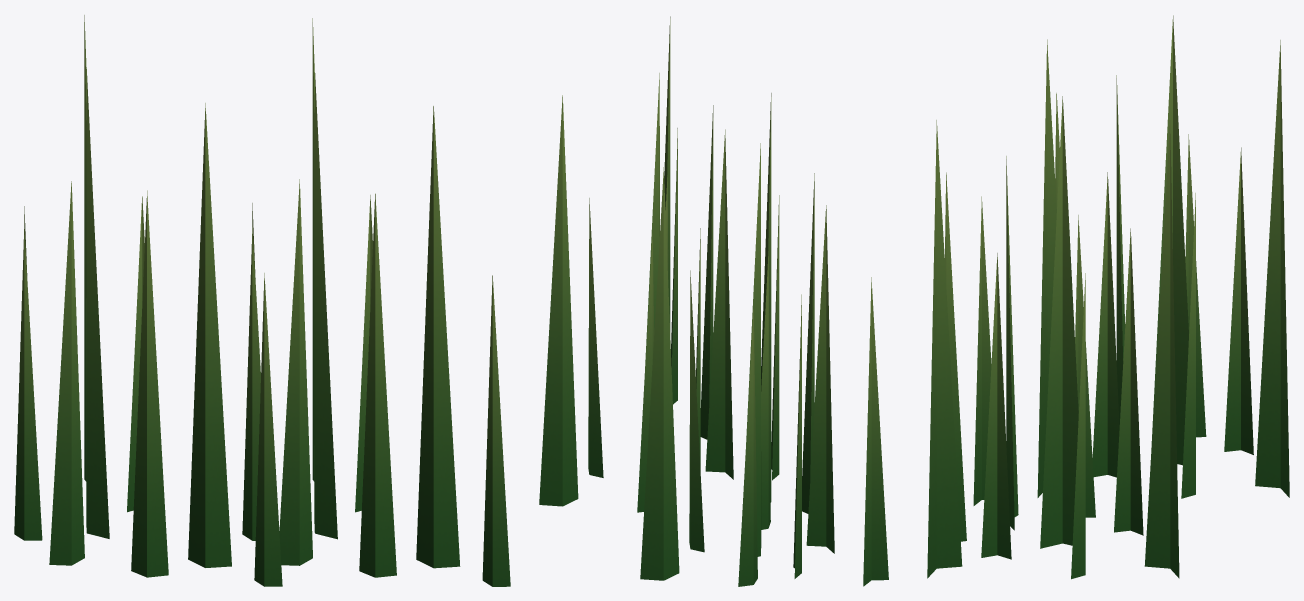
Rendered from Grass_2.fbx.
The picture shows the model from 3 angles, left to right: view 1: azimuth 30°, elevation 25°; view 2: azimuth 150°, elevation 25°; view 3: azimuth 270°, elevation 25°; orthographic projection. The views are drawn at different scales.
Visible parts, largest first — view 1: polySurface546; view 2: polySurface546; view 3: polySurface546.
Boxes of the visible parts, x1,y1,x2,y2 form: polySurface546: (14,15,510,586); polySurface546: (539,16,834,586); polySurface546: (863,15,1289,586).
Size of the model in its own units: 60.14 by 82.68 by 71.2.
